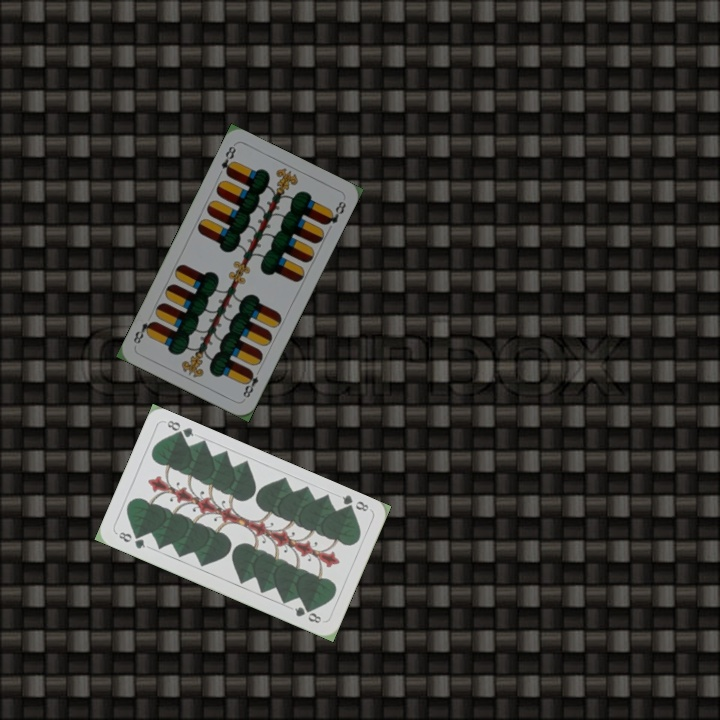E8: (239, 364, 263, 400), (217, 142, 239, 179)
G8: (338, 491, 371, 515), (114, 528, 148, 551)
